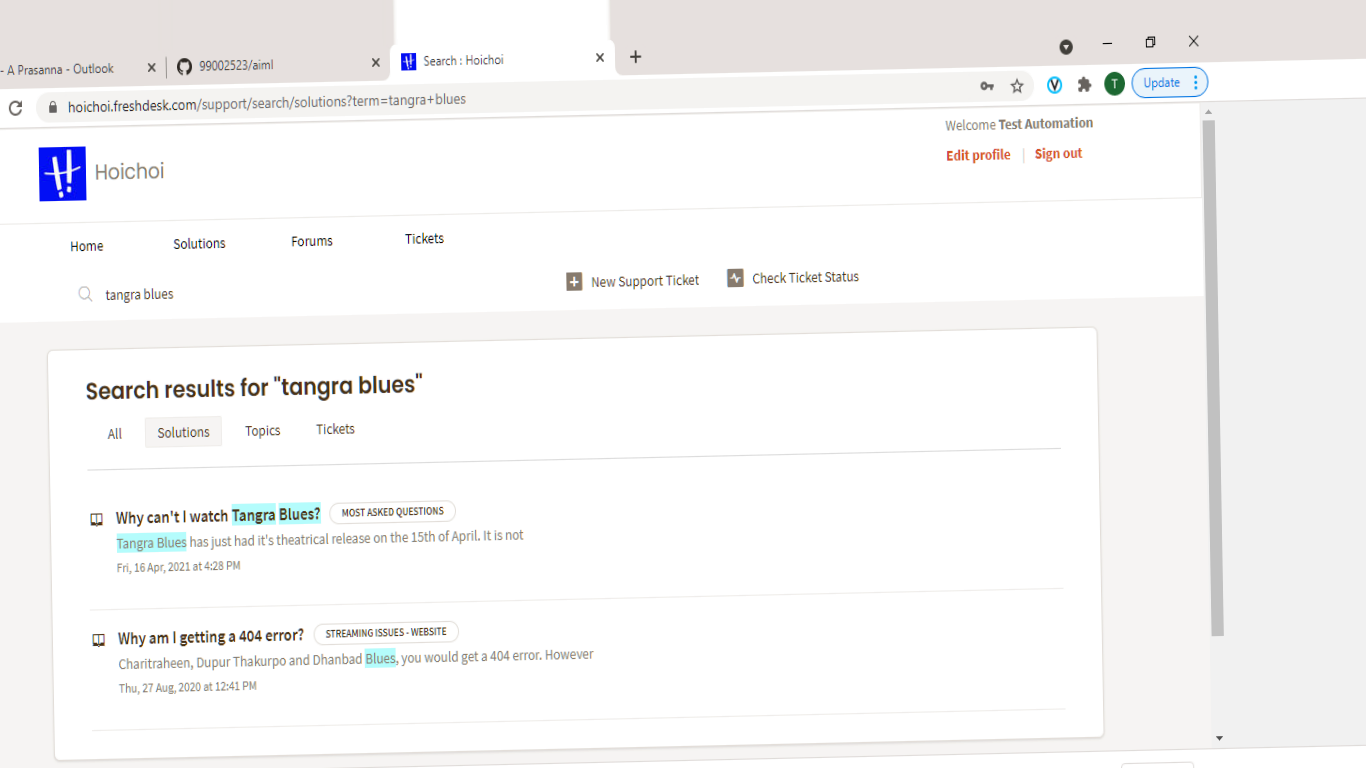profileicon: (931, 140, 1020, 166)
resultsfound: (75, 364, 451, 422)
searchicon: (63, 278, 104, 318)
searchtextbox: (56, 266, 552, 325)
